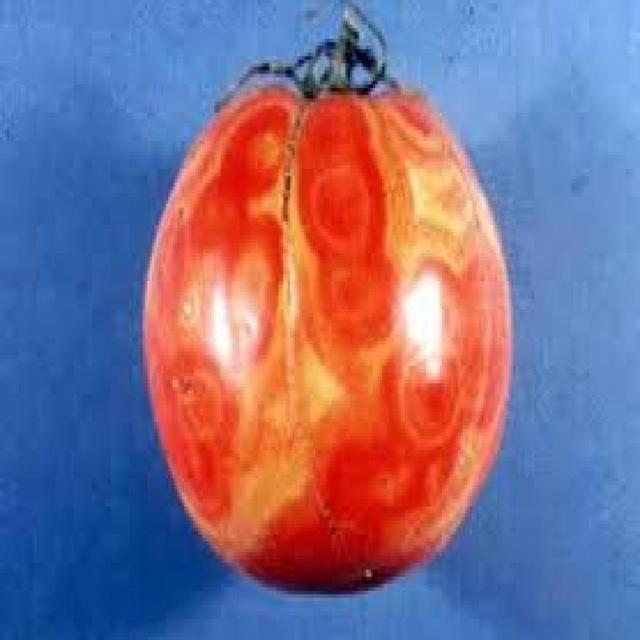Spotted wilt Virus Fruit: (54, 64, 149, 259)
